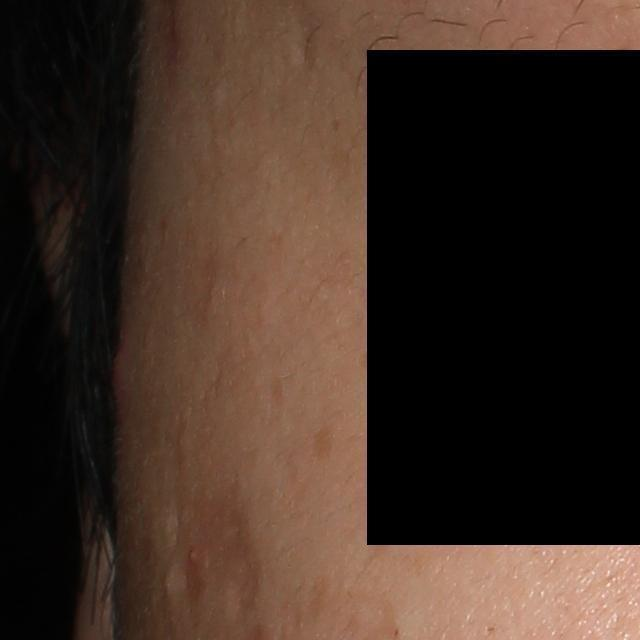atrophic_scar: (192, 485, 265, 625), (286, 2, 323, 76)
melasma: (309, 422, 338, 463)
papule: (108, 337, 137, 404)
